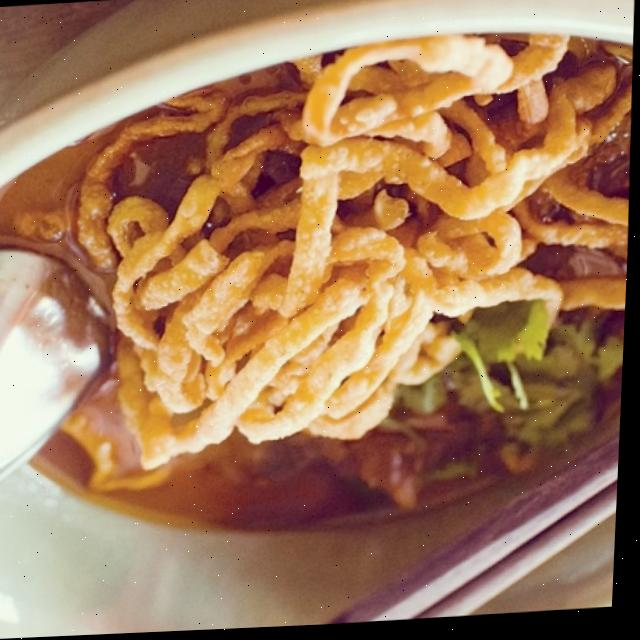面条主食: (0, 7, 639, 600)
